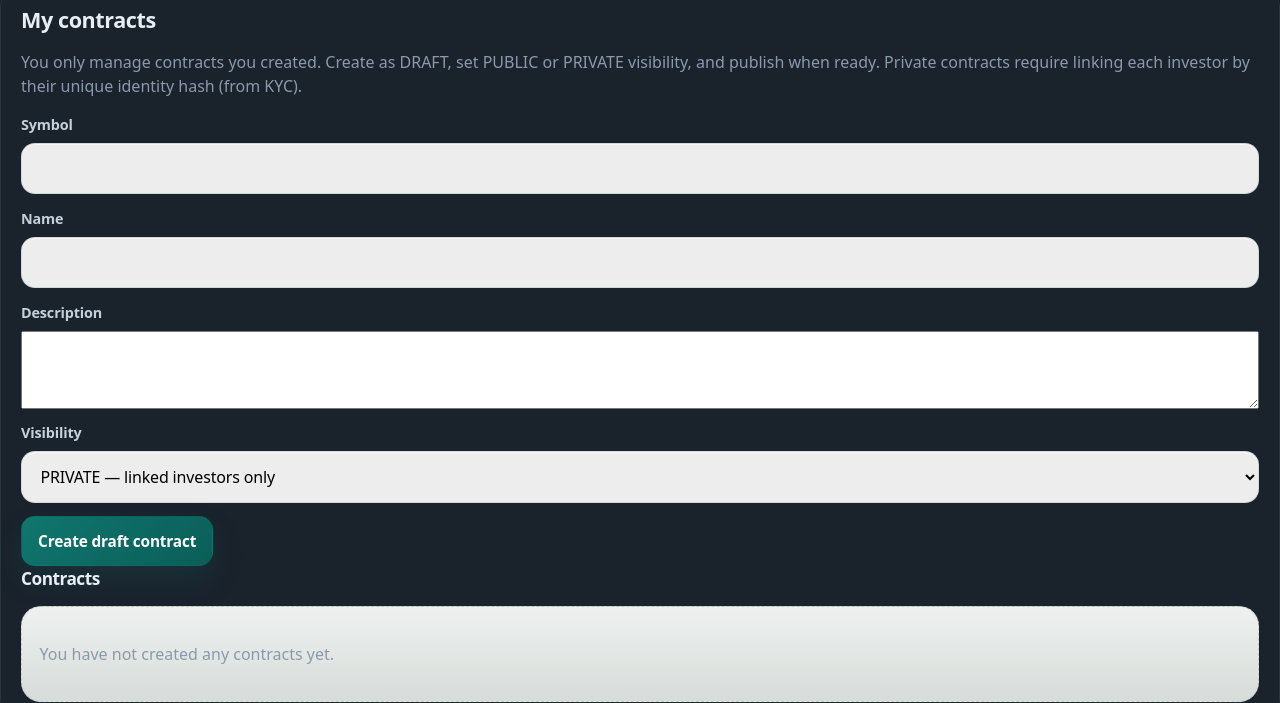
Scenario: SaAssetsScreen (SA-S02) › creates a DRAFT with PUBLIC|PRIVATE and publishes to ACTIVE
Expected: the heading "My contracts" is shown, [21,4,156,36]
In the field labelled "Symbol": (640, 169) [21,143,1259,194], type "VGNEW"
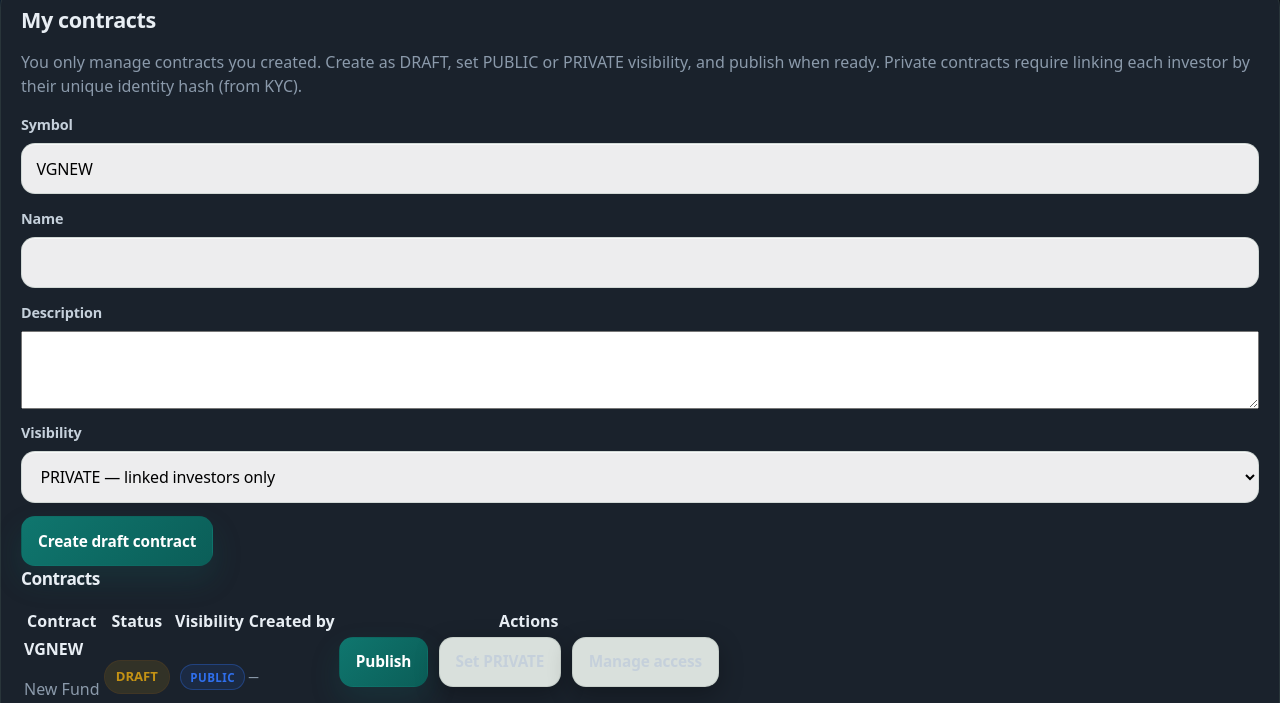
In the field labelled "Name": (640, 263) [21,237,1259,288], type "New Fund"
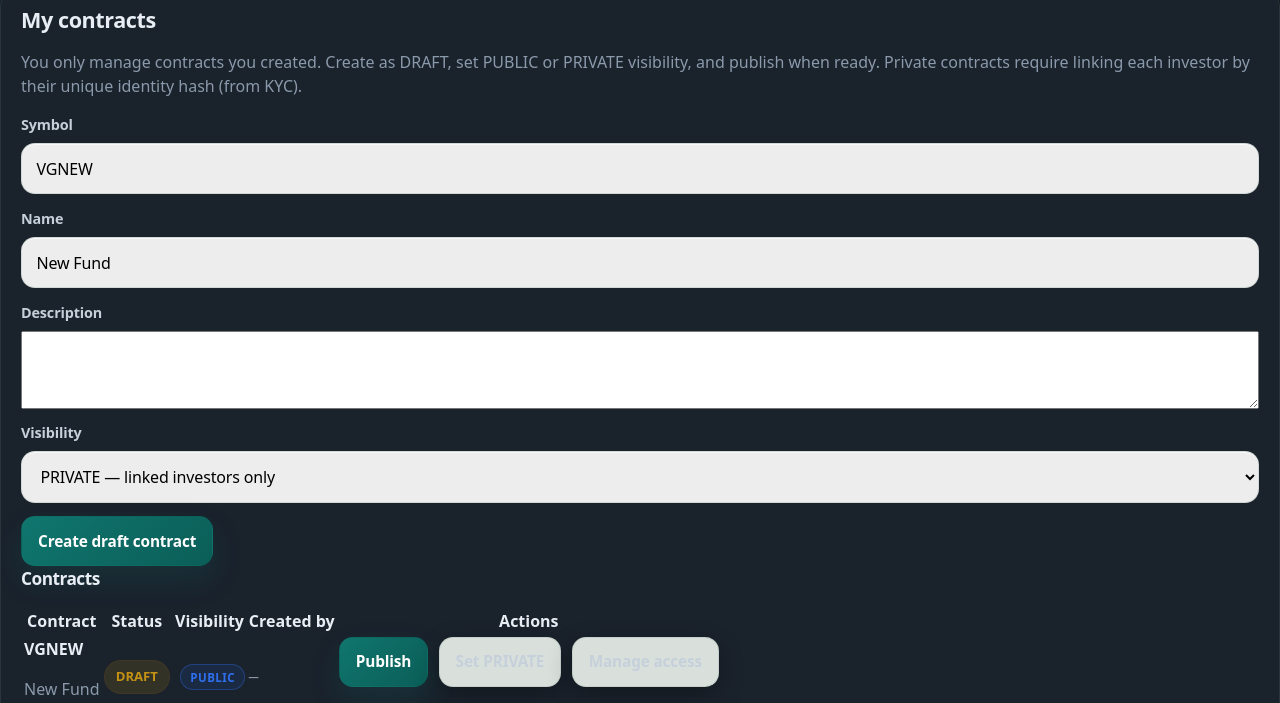
Select "PUBLIC — any investor" in the dropdown labelled "Visibility": (640, 477) [21,451,1259,503]
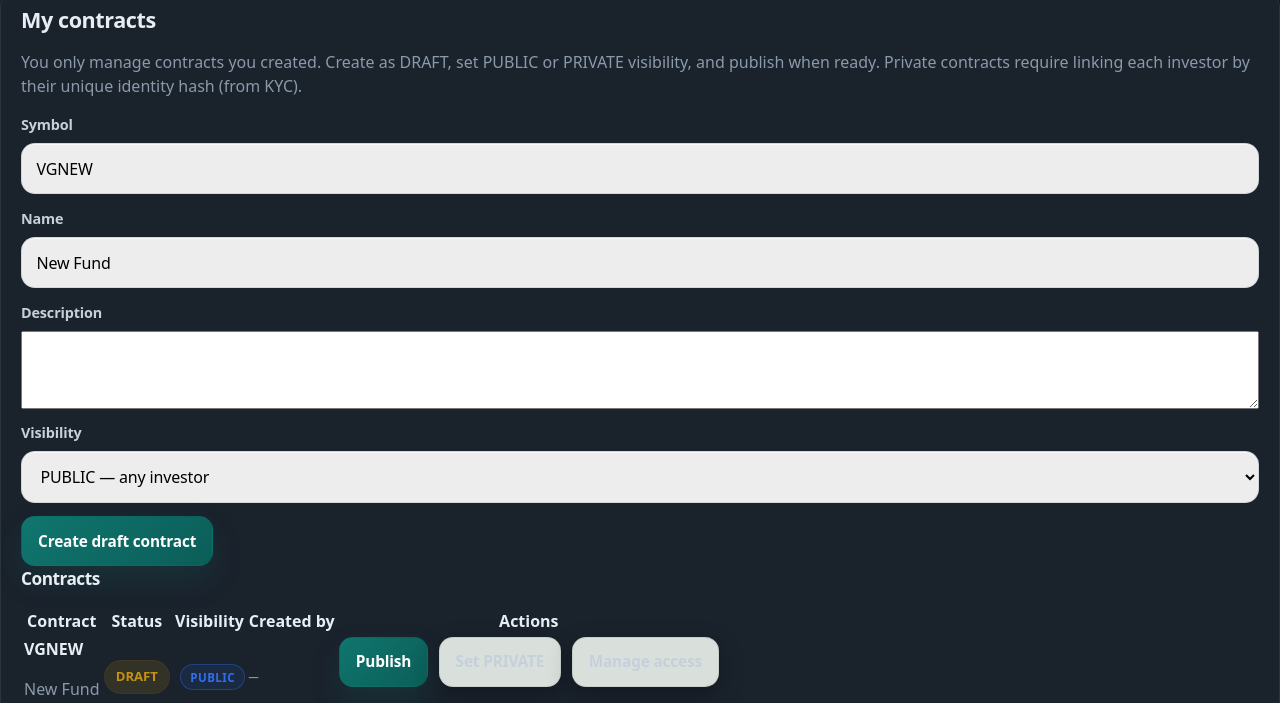
Click the button "Create draft contract": click(117, 541) [21,516,213,566]
(page scrolled)
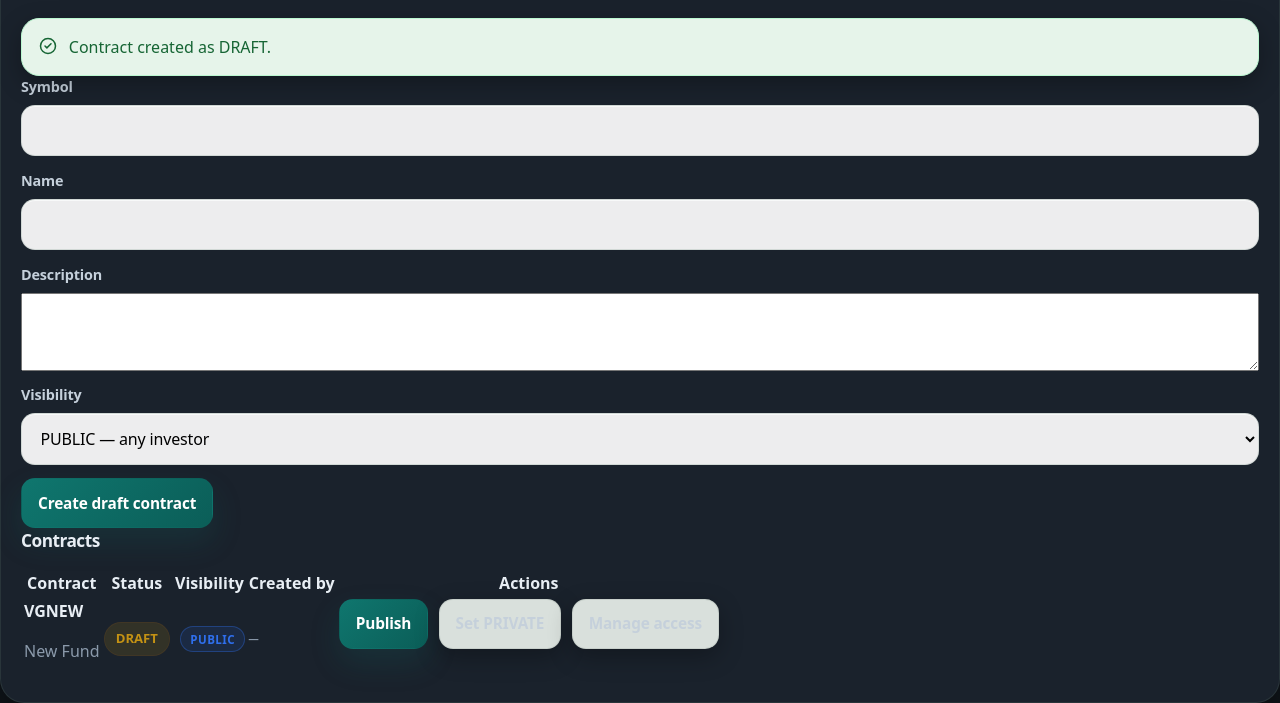
Expected: the text "DRAFT" is shown, [104,622,170,656]
Expected: the text "VGNEW" is shown, [24,600,83,622]
Expected: the text "Contract created as DRAFT." is shown, [69,36,271,58]
Click the button "Publish": click(383, 624) [339,599,428,649]
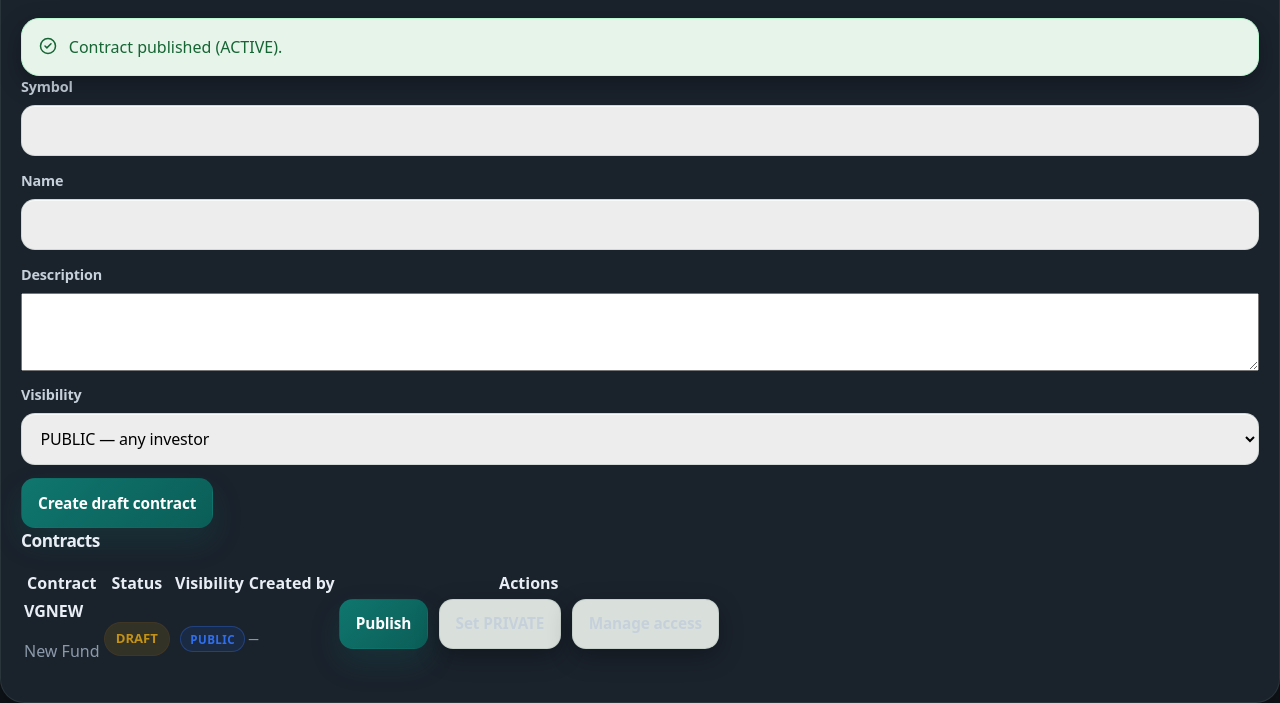
Expected: the text "Contract published (ACTIVE)." is shown, [69,36,282,58]
